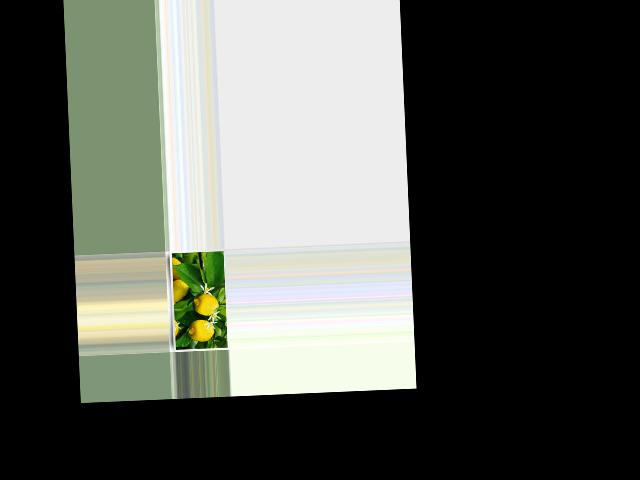lemon: (192, 293, 220, 316)
